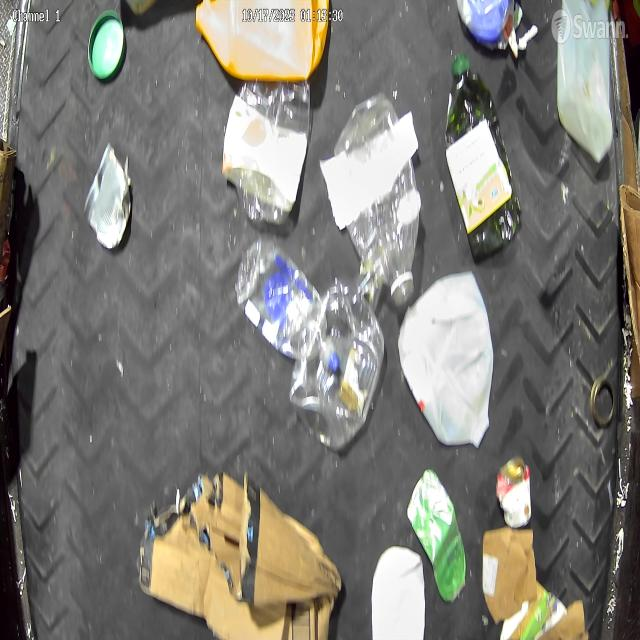can: (83, 141, 133, 252), (497, 453, 533, 528)
milk_jug: (399, 272, 495, 448), (556, 1, 616, 162)
non_white_jug: (197, 2, 329, 86)
plastic_bottle: (335, 94, 420, 308), (291, 262, 384, 448), (234, 236, 337, 364)
